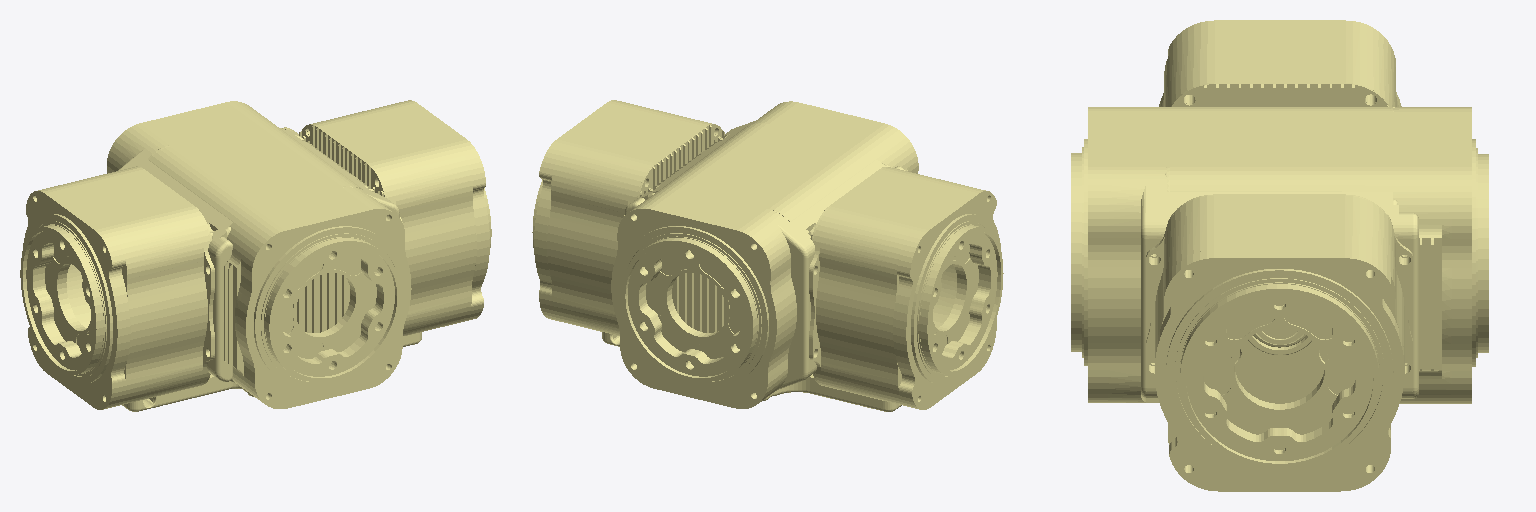
The robot description file, URDF, robot "rbq10":
<?xml version="1.0" encoding="utf-8"?>

<robot name="rbq10">
    <material name="black">
        <color rgba="0.0 0.0 0.0 1.0" />
    </material>
    <material name="blue">
        <color rgba="0.0 0.0 0.8 1.0" />
    </material>
    <material name="green">
        <color rgba="0.0 0.8 0.0 1.0" />
    </material>
    <material name="grey">
        <color rgba="0.2 0.2 0.2 1.0" />
    </material>
    <material name="silver">
        <color rgba="0.913725490196 0.913725490196 0.847058823529 1.0" />
    </material>
    <material name="orange">
        <color rgba="1.0 0.423529411765 0.0392156862745 1.0" />
    </material>
    <material name="brown">
        <color rgba="0.870588235294 0.811764705882 0.764705882353 1.0" />
    </material>
    <material name="red">
        <color rgba="0.8 0.0 0.0 1.0" />
    </material>
    <material name="white">
        <color rgba="1.0 1.0 1.0 1.0" />
    </material>

  <!-- Trunk -->
  <link name="base_link">
    <inertial>
      <origin xyz="-0.013265 0.0 0.011765" rpy="0 0 0" />
      <mass value="16.758" />
      <inertia
        ixx="0.163831629266"
        ixy="-0.000271071491" iyy="0.590891341306"
        ixz="0.040352639311" iyz="0.000216428332" izz="0.678714788268" />
    </inertial>
    <collision>
      <origin xyz="0.0 0.0 0.0" rpy="0 0 0" />
      <geometry>
        <box size="0.8 0.20 0.12" />
      </geometry>
    </collision>
    <visual>
      <origin xyz="0 0 0" rpy="0 0 0" />
      <geometry> 
        <mesh filename="package://rbq_description/meshes/stl/trunk.stl" scale="1 1 1"/>
      </geometry>
      <material name="silver">
        <color rgba="0.823 0.706 0.549 1" />
      </material>
    </visual>
    <!-- Livox Mid360 housings (front/rear), from rbq_gazebo livox.urdf. -->
    <visual name="lidar_front_housing">
      <origin xyz="0.372824 0 0.127636" rpy="1.570799757441085 -0.610864999999958 -3.141592230701086"/>
      <geometry>
        <mesh filename="package://rbq_description/meshes/stl/mid-360.stl" scale="0.001 0.001 0.001"/>
      </geometry>
      <material name="lidar_mat"><color rgba="0.35 0.35 0.38 1"/></material>
    </visual>
    <visual name="lidar_rear_housing">
      <origin xyz="-0.333 0 0.20763" rpy="1.5708 -0.6108650000000003 0"/>
      <geometry>
        <mesh filename="package://rbq_description/meshes/stl/mid-360.stl" scale="0.001 0.001 0.001"/>
      </geometry>
      <material name="lidar_mat"><color rgba="0.35 0.35 0.38 1"/></material>
    </visual>
  </link>

  <joint name="imu_joint" type="fixed">
    <origin xyz="0.00665 0 -0.0404" rpy="0 0 0" /> 
    <parent link="base_link" /> 
    <child link="imu_link" /> 
  </joint>

  <!-- IMU -->
  <link name="imu_link">
  </link>

  <!-- Livox Mid360 sensor frames (cloud frame_id). Poses = <pose> in rbq_gazebo livox.urdf. -->
  <joint name="lidar_front_joint" type="fixed">
    <origin xyz="0.372824 0 0.127636" rpy="0 0.610865 0"/>
    <parent link="base_link"/>
    <child link="lidar_front"/>
  </joint>
  <link name="lidar_front"/>

  <joint name="lidar_rear_joint" type="fixed">
    <origin xyz="-0.333 0 0.20763" rpy="0 -0.610865 0"/>
    <parent link="base_link"/>
    <child link="lidar_rear"/>
  </joint>
  <link name="lidar_rear"/>

  <!-- ========== HR ========== -->
  <link name="HR_hip">
    <inertial>
      <origin xyz="0.027522 -0.01681 -0.00187" rpy="0 0 0" />
      <mass value="3.669344" />
      <inertia
        ixx="0.006957590282"
        ixy="-0.0017011378" iyy="0.00993982268"
        ixz="-0.000029676183" iyz="0.000087952172" izz="0.012145140245" />
    </inertial>
    <visual>
      <origin xyz="0 0 0" rpy="0 0 3.1416" />
      <geometry>
        <mesh filename="package://rbq_description/meshes/stl/hip3.stl" scale="1 1 1"/>
      </geometry>
        <material name="white">
          <color rgba="0.9334 0.91 0.667 1.0" />
        </material>
    </visual>
  </link>

  <link name="HR_thigh">
    <inertial>
      <origin xyz="-0.004765 -0.00441 -0.06311" rpy="0 0 0" />
      <mass value="1.80014" />
      <inertia
        ixx="0.018990787558"
        ixy="0.000045769435" iyy="0.019770882672"
        ixz="-0.001024809563" iyz="0.000510504233" izz="0.001828257915" />
    </inertial>
    <collision>
      <origin xyz="0 0 0" rpy="1.57 0 0"/>
      <geometry>
        <cylinder length="0.07" radius="0.06"/>
      </geometry>
    </collision>
    <collision>
      <origin rpy="0 0 0" xyz="-0.035 0 -0.125" />
      <geometry>
        <box size="0.05 0.04 0.25" />
      </geometry>
    </collision>
    <visual>
      <origin xyz="0 0 0" rpy="0 0 0" />
      <geometry>
        <mesh filename="package://rbq_description/meshes/stl/thigh.stl" scale="1 1 1"/>
      </geometry>
        <material name="black">
          <color rgba="0.75294 0.75294 0.75294 1" />
        </material>
    </visual>
  </link>

  <link name="HR_calf">
    <inertial>
      <origin xyz="0.008988 0.000072 -0.14911" rpy="0 0 0" />
      <mass value="0.4520" />
      <inertia
        ixx="0.00428512"
        ixy="0.000000075939" iyy="0.00433136"
        ixz="0.0000230368745" iyz="0.000009344688" izz="0.0000616440919" />
    </inertial>
    <collision>
      <origin xyz="0 0 -0.065" rpy="0 -0.226893 0"/>
      <geometry>
        <box size="0.02 0.03 0.21"/>
      </geometry>
    </collision>
    <collision>
      <origin xyz="0.02 0 -0.23" rpy="0 0.11 0"/>
      <geometry>
        <box size="0.02 0.03 0.08"/>
      </geometry>
    </collision>
    <visual>
      <origin xyz="0 0 0" rpy="0 0 0" />
      <geometry>
        <mesh filename="package://rbq_description/meshes/stl/calf.STL" scale="1 1 1"/>
      </geometry>
        <material name="silver">
          <color rgba="0.3 0.3 0.3 1" />
        </material>
    </visual>
  </link>
  
  <link name="HR_foot">
    <inertial>
      <mass value="0.06"/>
      <inertia ixx="9.6e-06" ixy="0.0" ixz="0.0" iyy="9.6e-06" iyz="0.0" izz="9.6e-06"/>
    </inertial>
    <collision>
      <origin xyz="0 0 0" rpy="0 0 0" />
      <geometry>
        <sphere radius="0.03"/>
      </geometry>
    </collision>
  </link>

  <!-- ========== HL ========== -->
  <link name="HL_hip">
    <inertial>
      <origin xyz="0.027522 0.01681 -0.00187" rpy="0 0 0" />
      <mass value="3.669344" />
      <inertia
        ixx="0.006957590282"
        ixy="0.0017011378" iyy="0.00993982268"
        ixz="-0.000029676183" iyz="-0.000087952172" izz="0.012145140245" />
    </inertial>
    <visual>
      <origin xyz="0 0 0" rpy="0 0 3.141592" />
      <geometry>
        <mesh filename="package://rbq_description/meshes/stl/hip2.stl" scale="1 1 1"/>
      </geometry>
        <material name="white">
          <color rgba="0.9334 0.91 0.667 1.0" />
        </material>
    </visual>
  </link>

  <link name="HL_thigh">
    <inertial>
      <origin xyz="-0.004765 0.00441 -0.06311" rpy="0 0 0" />
      <mass value="1.80014" />
      <inertia
        ixx="0.018990787558"
        ixy="-0.000045769435" iyy="0.019770882672"
        ixz="-0.001024809563" iyz="-0.000510504233" izz="0.001828257915" />
    </inertial>
    <collision>
      <origin xyz="0 0 0" rpy="1.57 0 0"/>
      <geometry>
        <cylinder length="0.07" radius="0.06"/>
      </geometry>
    </collision>
    <collision>
      <origin rpy="0 0 0" xyz="-0.035 0 -0.125" />
      <geometry>
        <box size="0.05 0.04 0.25" />
      </geometry>
    </collision>
    <visual>
      <origin xyz="0 0 0" rpy="0 0 0" />
      <geometry>
        <mesh filename="package://rbq_description/meshes/stl/thigh.stl" scale="1 1 1"/>
      </geometry>
        <material name="black">
          <color rgba="0.75294 0.75294 0.75294 1" />
        </material>
    </visual>
  </link>

  <link name="HL_calf">
    <inertial>
      <origin xyz="0.008988 -0.000072 -0.14911" rpy="0 0 0" />
      <mass value="0.4520" />
      <inertia
        ixx="0.00428512"
        ixy="-0.000000075939" iyy="0.00433136"
        ixz="0.0000230368745" iyz="-0.000009344688" izz="0.0000616440919" />
    </inertial>
    <collision>
      <origin xyz="0 0 -0.065" rpy="0 -0.226893 0"/>
      <geometry>
        <box size="0.02 0.03 0.21"/>
      </geometry>
    </collision>
    <collision>
      <origin xyz="0.02 0 -0.23" rpy="0 0.11 0"/>
      <geometry>
        <box size="0.02 0.03 0.08"/>
      </geometry>
    </collision>
    <visual>
      <origin xyz="0 0 0" rpy="0 0 0" />
      <geometry>
        <mesh filename="package://rbq_description/meshes/stl/calf.STL" scale="1 1 1"/>
      </geometry>
        <material name="silver">
          <color rgba="0.3 0.3 0.3 1" />
        </material>
    </visual>
  </link>

  <link name="HL_foot">
    <inertial>
      <mass value="0.06"/>
      <inertia ixx="9.6e-06" ixy="0.0" ixz="0.0" iyy="9.6e-06" iyz="0.0" izz="9.6e-06"/>
    </inertial>
    <collision>
      <origin xyz="0 0 0" rpy="0 0 0" />
      <geometry>
        <sphere radius="0.03"/>
      </geometry>
    </collision>
  </link>


  <!-- ========== FR ========== -->
  <link name="FR_hip">
    <inertial>
      <origin xyz="-0.027522 -0.01681 -0.00187" rpy="0 0 0" />
      <mass value="3.669344" />
      <inertia
        ixx="0.006957590282"
        ixy="0.0017011378" iyy="0.00993982268"
        ixz="0.000029676183" iyz="0.000087952172" izz="0.012145140245" />
    </inertial>
    <visual>
      <origin xyz="0 0 0" rpy="0 0 0" />
      <geometry>
        <mesh filename="package://rbq_description/meshes/stl/hip2.stl" scale="1 1 1"/>
      </geometry>
        <material name="white">
          <color rgba="0.9334 0.91 0.667 1.0" />
        </material>
    </visual>
  </link>

  <link name="FR_thigh">
    <inertial>
      <origin xyz="-0.004765 -0.00441 -0.06311" rpy="0 0 0" />
      <mass value="1.80014" />
      <inertia
        ixx="0.018990787558"
        ixy="0.000045769435" iyy="0.019770882672"
        ixz="-0.001024809563" iyz="0.000510504233" izz="0.001828257915" />
    </inertial>
    <collision>
      <origin xyz="0 0 0" rpy="1.57 0 0"/>
      <geometry>
        <cylinder length="0.07" radius="0.06"/>
      </geometry>
    </collision>
    <collision>
      <origin rpy="0 0 0" xyz="-0.035 0 -0.125" />
      <geometry>
        <box size="0.05 0.04 0.25" />
      </geometry>
    </collision>
    <visual>
      <origin xyz="0 0 0" rpy="0 0 0" />
      <geometry>
        <mesh filename="package://rbq_description/meshes/stl/thigh.stl" scale="1 1 1"/>
      </geometry>
        <material name="black">
          <color rgba="0.75294 0.75294 0.75294 1" />
        </material>
    </visual>
  </link>

  <link name="FR_calf">
    <inertial>
      <origin xyz="0.008988 0.000072 -0.14911" rpy="0 0 0" />
      <mass value="0.4520" />
      <inertia
        ixx="0.00428512"
        ixy="0.000000075939" iyy="0.00433136"
        ixz="0.0000230368745" iyz="0.000009344688" izz="0.0000616440919" />
    </inertial>
    <collision>
      <origin xyz="0 0 -0.065" rpy="0 -0.226893 0"/>
      <geometry>
        <box size="0.02 0.03 0.21"/>
      </geometry>
    </collision>
    <collision>
      <origin xyz="0.02 0 -0.23" rpy="0 0.11 0"/>
      <geometry>
        <box size="0.02 0.03 0.08"/>
      </geometry>
    </collision>
    <visual>
      <origin xyz="0 0 0" rpy="0 0 0" />
      <geometry>
        <mesh filename="package://rbq_description/meshes/stl/calf.STL" scale="1 1 1"/>
      </geometry>
        <material name="silver">
          <color rgba="0.3 0.3 0.3 1" />
        </material>
    </visual>
  </link>
  
  <link name="FR_foot">
    <inertial>
      <mass value="0.06"/>
      <inertia ixx="9.6e-06" ixy="0.0" ixz="0.0" iyy="9.6e-06" iyz="0.0" izz="9.6e-06"/>
    </inertial>
    <collision>
      <origin xyz="0 0 0" rpy="0 0 0" />
      <geometry>
        <sphere radius="0.03"/>
      </geometry>
    </collision>
  </link>


  <!-- ========== FL ========== -->
  <link name="FL_hip">
    <inertial>
      <origin xyz="-0.027522 0.01681 -0.00187" rpy="0 0 0" />
      <mass value="3.669344" />
      <inertia
        ixx="0.006957590282"
        ixy="-0.0017011378" iyy="0.00993982268"
        ixz="0.000029676183" iyz="-0.000087952172" izz="0.012145140245" />
    </inertial>
    <visual>
      <origin xyz="0 0 0" rpy="0 0 0" />
      <geometry>
        <mesh filename="package://rbq_description/meshes/stl/hip3.stl" scale="1 1 1"/>
      </geometry>
        <material name="white">
          <color rgba="0.9334 0.91 0.667 1.0" />
        </material>
    </visual>
  </link>

  <link name="FL_thigh">
    <inertial>
      <origin xyz="-0.004765 0.00441 -0.06311" rpy="0 0 0" />
      <mass value="1.80014" />
      <inertia
        ixx="0.018990787558"
        ixy="-0.000045769435" iyy="0.019770882672"
        ixz="-0.001024809563" iyz="-0.000510504233" izz="0.001828257915" />
    </inertial>
    <collision>
      <origin xyz="0 0 0" rpy="1.57 0 0"/>
      <geometry>
        <cylinder length="0.07" radius="0.06"/>
      </geometry>
    </collision>
    <collision>
      <origin rpy="0 0 0" xyz="-0.035 0 -0.125" />
      <geometry>
        <box size="0.05 0.04 0.25" />
      </geometry>
    </collision>
    <visual>
      <origin xyz="0 0 0" rpy="0 0 0" />
      <geometry>
        <mesh filename="package://rbq_description/meshes/stl/thigh.stl" scale="1 1 1"/>
      </geometry>
        <material name="black">
          <color rgba="0.75294 0.75294 0.75294 1" />
        </material>
    </visual>
  </link>

  <link name="FL_calf">
    <inertial>
      <origin xyz="0.008988 -0.000072 -0.14911" rpy="0 0 0" />
      <mass value="0.4520" />
      <inertia
        ixx="0.00428512"
        ixy="-0.000000075939" iyy="0.00433136"
        ixz="0.0000230368745" iyz="-0.000009344688" izz="0.0000616440919" />
    </inertial>
    <collision>
      <origin xyz="0 0 -0.065" rpy="0 -0.226893 0"/>
      <geometry>
        <box size="0.02 0.03 0.21"/>
      </geometry>
    </collision>
    <collision>
      <origin xyz="0.02 0 -0.23" rpy="0 0.11 0"/>
      <geometry>
        <box size="0.02 0.03 0.08"/>
      </geometry>
    </collision>
    <visual>
      <origin xyz="0 0 0" rpy="0 0 0" />
      <geometry>
        <mesh filename="package://rbq_description/meshes/stl/calf.STL" scale="1 1 1"/>
      </geometry>
        <material name="silver">
          <color rgba="0.3 0.3 0.3 1" />
        </material>
    </visual>
  </link>

  <link name="FL_foot">
    <inertial>
      <mass value="0.06"/>
      <inertia ixx="9.6e-06" ixy="0.0" ixz="0.0" iyy="9.6e-06" iyz="0.0" izz="9.6e-06"/>
    </inertial>
    <collision>
      <origin xyz="0 0 0" rpy="0 0 0" />
      <geometry>
        <sphere radius="0.03"/>
      </geometry>
    </collision>
  </link>


 <!-- ===== JOINT ===== -->
  <joint name="joint0_HRR" type="revolute">
    <origin xyz="-0.31218 -0.09 0" rpy="0 0 0" />
    <parent link="base_link" />
    <child link="HR_hip" />
    <axis xyz="1 0 0" />
    <dynamics damping="0" friction="0" rotor_inertia="0.014058"/>
    <limit effort="100"  velocity="50" lower="-0.7330" upper="0.5411" />
  </joint>

  <joint name="joint1_HRP" type="revolute">
    <origin xyz="0 -0.10285 0" rpy="0 0 0" />
    <parent link="HR_hip" />
    <child link="HR_thigh" />
    <axis xyz="0 1 0" />
    <dynamics damping="0" friction="0" rotor_inertia="0.014058"/>
    <limit effort="100" velocity="50" lower="-6.2832" upper="6.2832"/>
  </joint>

  <joint name="joint2_HRK" type="revolute">
    <origin xyz="0 0 -0.33" rpy="0 0 0" />
    <parent link="HR_thigh" />
    <child link="HR_calf" />
    <axis xyz="0 1 0" />
    <dynamics damping="0" friction="0" rotor_inertia="0.0214816"/>
    <limit effort="150"  velocity="50" lower="-2.8274" upper="-0.4189" />
  </joint>

  <joint name="foot_joint_HRF" type="fixed" dont_collapse="true">
    <origin xyz="0 0 -0.33" rpy="0 0 0" />
    <parent link="HR_calf" />
    <child link="HR_foot" />
  </joint>

  <joint name="joint3_HLR" type="revolute">
    <origin xyz="-0.31218 0.09 0" rpy="0 0 0" />
    <parent link="base_link" />
    <child link="HL_hip" />
    <axis xyz="1 0 0" />
    <dynamics damping="0" friction="0" rotor_inertia="0.014058"/>
    <limit effort="100"  velocity="50" lower="-0.5411" upper="0.7330" />
  </joint>

  <joint name="joint4_HLP" type="revolute">
    <origin xyz="0 0.10285 0" rpy="0 0 0" />
    <parent link="HL_hip" />
    <child link="HL_thigh" />
    <axis xyz="0 1 0" />
    <dynamics damping="0" friction="0" rotor_inertia="0.014058"/>
    <limit effort="100" velocity="50" lower="-6.2832" upper="6.2832"/>
  </joint>

  <joint name="joint5_HLK" type="revolute">
    <origin xyz="0 0 -0.33" rpy="0 0 0" />
    <parent link="HL_thigh" />
    <child link="HL_calf" />
    <axis xyz="0 1 0" />
    <dynamics damping="0" friction="0" rotor_inertia="0.0214816"/>
    <limit effort="150"  velocity="50" lower="-2.8274" upper="-0.4189" />
  </joint>

  <joint name="foot_joint_HLF" type="fixed" dont_collapse="true">
    <origin xyz="0 0 -0.33" rpy="0 0 0" />
    <parent link="HL_calf" />
    <child link="HL_foot" />
  </joint>

  <joint name="joint6_FRR" type="revolute">
    <origin xyz="0.31218 -0.09 0" rpy="0 0 0" />
    <parent link="base_link" />
    <child link="FR_hip" />
    <axis xyz="1 0 0" />
    <dynamics damping="0" friction="0" rotor_inertia="0.014058"/>
    <limit effort="100"  velocity="50" lower="-0.7330" upper="0.5411" />
  </joint>

  <joint name="joint7_FRP" type="revolute">
    <origin xyz="0 -0.10285 0" rpy="0 0 0" />
    <parent link="FR_hip" />
    <child link="FR_thigh" />
    <axis xyz="0 1 0" />
    <dynamics damping="0" friction="0" rotor_inertia="0.014058"/>
    <limit effort="100" velocity="50" lower="-6.2832" upper="6.2832"/>
  </joint>

  <joint name="joint8_FRK" type="revolute">
    <origin xyz="0 0 -0.33" rpy="0 0 0" />
    <parent link="FR_thigh" />
    <child link="FR_calf" />
    <axis xyz="0 1 0" />
    <dynamics damping="0" friction="0" rotor_inertia="0.0214816"/>
    <limit effort="150"  velocity="50" lower="-2.8274" upper="-0.4189" />
  </joint>

  <joint name="foot_joint_FRF" type="fixed" dont_collapse="true">
    <origin xyz="0 0 -0.33" rpy="0 0 0" />
    <parent link="FR_calf" />
    <child link="FR_foot" />
  </joint>
  
  <joint name="joint9_FLR" type="revolute">
    <origin xyz="0.31218 0.09 0" rpy="0 0 0" />
    <parent link="base_link" />
    <child link="FL_hip" />
    <axis xyz="1 0 0" />
    <dynamics damping="0" friction="0" rotor_inertia="0.014058"/>
    <limit effort="100"  velocity="50" lower="-0.5411" upper="0.7330" />
  </joint>

  <joint name="joint10_FLP" type="revolute">
    <origin xyz="0 0.10285 0" rpy="0 0 0" />
    <parent link="FL_hip" />
    <child link="FL_thigh" />
    <axis xyz="0 1 0" />
    <dynamics damping="0" friction="0" rotor_inertia="0.014058"/>
    <limit effort="100" velocity="50" lower="-6.2832" upper="6.2832"/>
  </joint>

  <joint name="joint11_FLK" type="revolute">
    <origin xyz="0 0 -0.33" rpy="0 0 0" />
    <parent link="FL_thigh" />
    <child link="FL_calf" />
    <axis xyz="0 1 0" />
    <dynamics damping="0" friction="0" rotor_inertia="0.0214816" />
    <limit effort="150"  velocity="50" lower="-2.8274" upper="-0.4189" />
  </joint>

  <joint name="foot_joint_FLF" type="fixed" dont_collapse="true">
    <origin xyz="0 0 -0.33" rpy="0 0 0" />
    <parent link="FL_calf" />
    <child link="FL_foot" />
  </joint>

</robot>

--- Render facts (derived) ---
The picture shows the robot from 3 angles, left to right: view 1: azimuth 30°, elevation 25°; view 2: azimuth 150°, elevation 25°; view 3: azimuth 270°, elevation 25°; orthographic projection.
Model rbq10 with 20 links and 19 joints (12 revolute, 7 fixed), rooted at base_link, posed joints at zero except 4 at the middle of their limits (joint2_HRK = -1.62, joint5_HLK = -1.62, joint8_FRK = -1.62, joint11_FLK = -1.62).
Links seen in each view (by area): view 1: HR_hip, FL_hip; view 2: FL_hip, HR_hip; view 3: HR_hip, FL_hip.
Boxes of the visible links, x1,y1,x2,y2 form: HR_hip: (148, 100, 491, 408); FL_hip: (20, 101, 362, 411); FL_hip: (611, 123, 1003, 411); HR_hip: (532, 100, 918, 400); HR_hip: (1071, 107, 1418, 491); FL_hip: (1159, 20, 1488, 403).
Size in the robot's own frame: 210 by 147 by 99.5 metres.
15 mesh visuals loaded from 6 distinct referenced files (6 binary STL).
